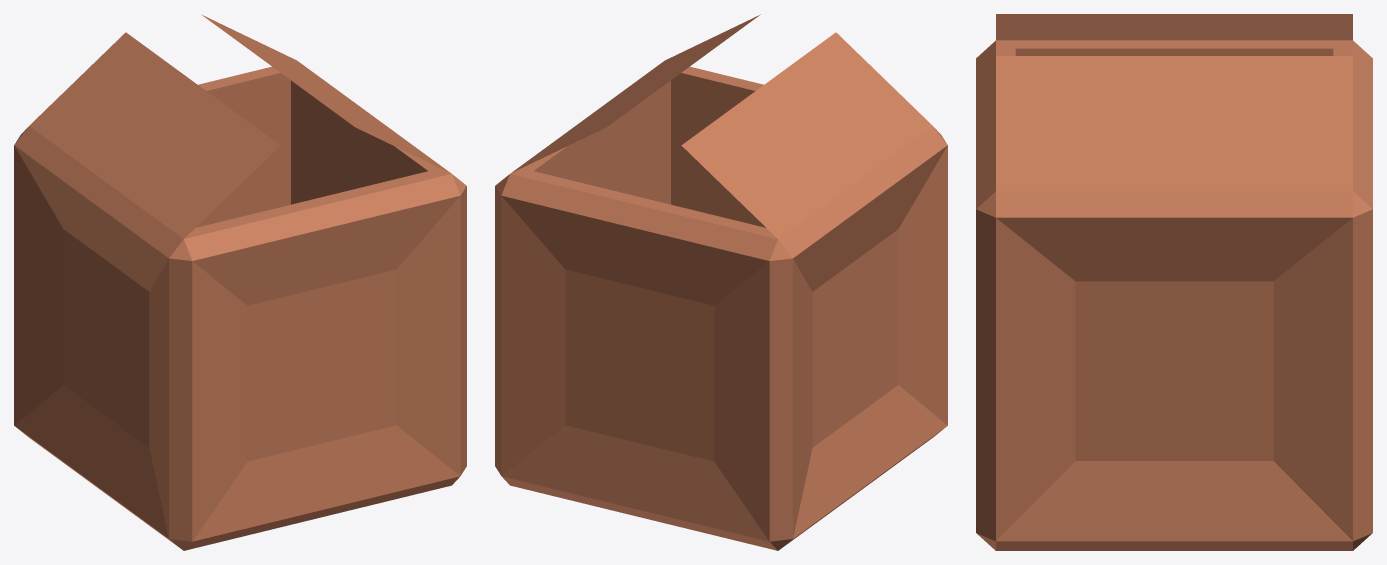
The model's file is box-open.obj.
3 renders of one model, left to right at view 1: azimuth 30°, elevation 25°; view 2: azimuth 150°, elevation 25°; view 3: azimuth 270°, elevation 25°, orthographic. The views are drawn at different scales.
Bounding box in the file's own units: 0.25 × 0.3063 × 0.25.
